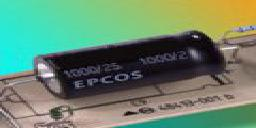Electrolytic-capacitor: (33, 28, 238, 99)
